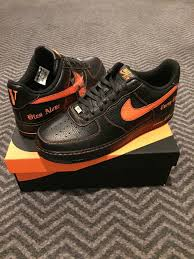nike: (116, 86, 177, 122)
